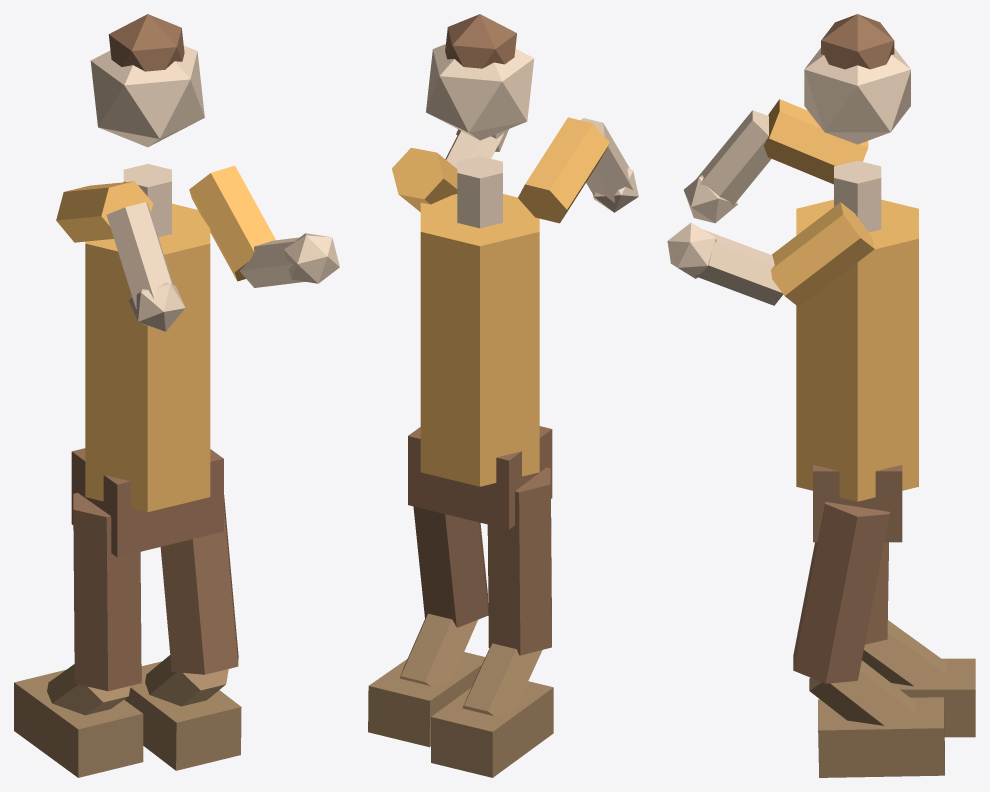
The model's file is pose_attack_1_43.glb.
3 renders of one model, left to right at view 1: azimuth 30°, elevation 25°; view 2: azimuth 150°, elevation 25°; view 3: azimuth 270°, elevation 25°, orthographic. The views are drawn at different scales.
Visible parts, largest first — view 1: pose; view 2: pose; view 3: pose.
Part boxes in pixels (x1,y1,x2,y2): pose: (14,14,339,777); pose: (368,14,638,777); pose: (667,14,975,777).
Size of the model in its own units: 0.4176 by 1.53 by 0.588.
